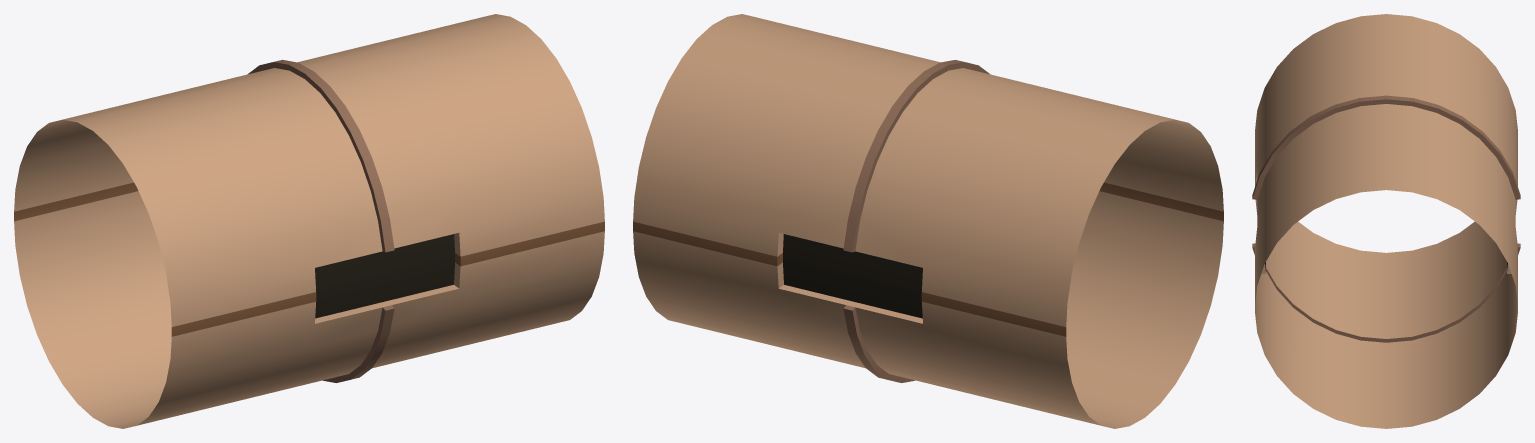
The model's file is quaternius-ultimate-space-connector-transformed.glb.
The picture shows the model from 3 angles, left to right: view 1: azimuth 30°, elevation 25°; view 2: azimuth 150°, elevation 25°; view 3: azimuth 270°, elevation 25°; orthographic projection. The views are drawn at different scales.
Visible parts, largest first — view 1: Connector; view 2: Connector; view 3: Connector.
Part boxes in pixels (x1,y1,x2,y2): Connector: (14, 14, 604, 428); Connector: (633, 14, 1223, 428); Connector: (1252, 14, 1520, 428).
Bounding box in the file's own units: 3.37 × 2.21 × 2.17.
1 material, 1 textured.
